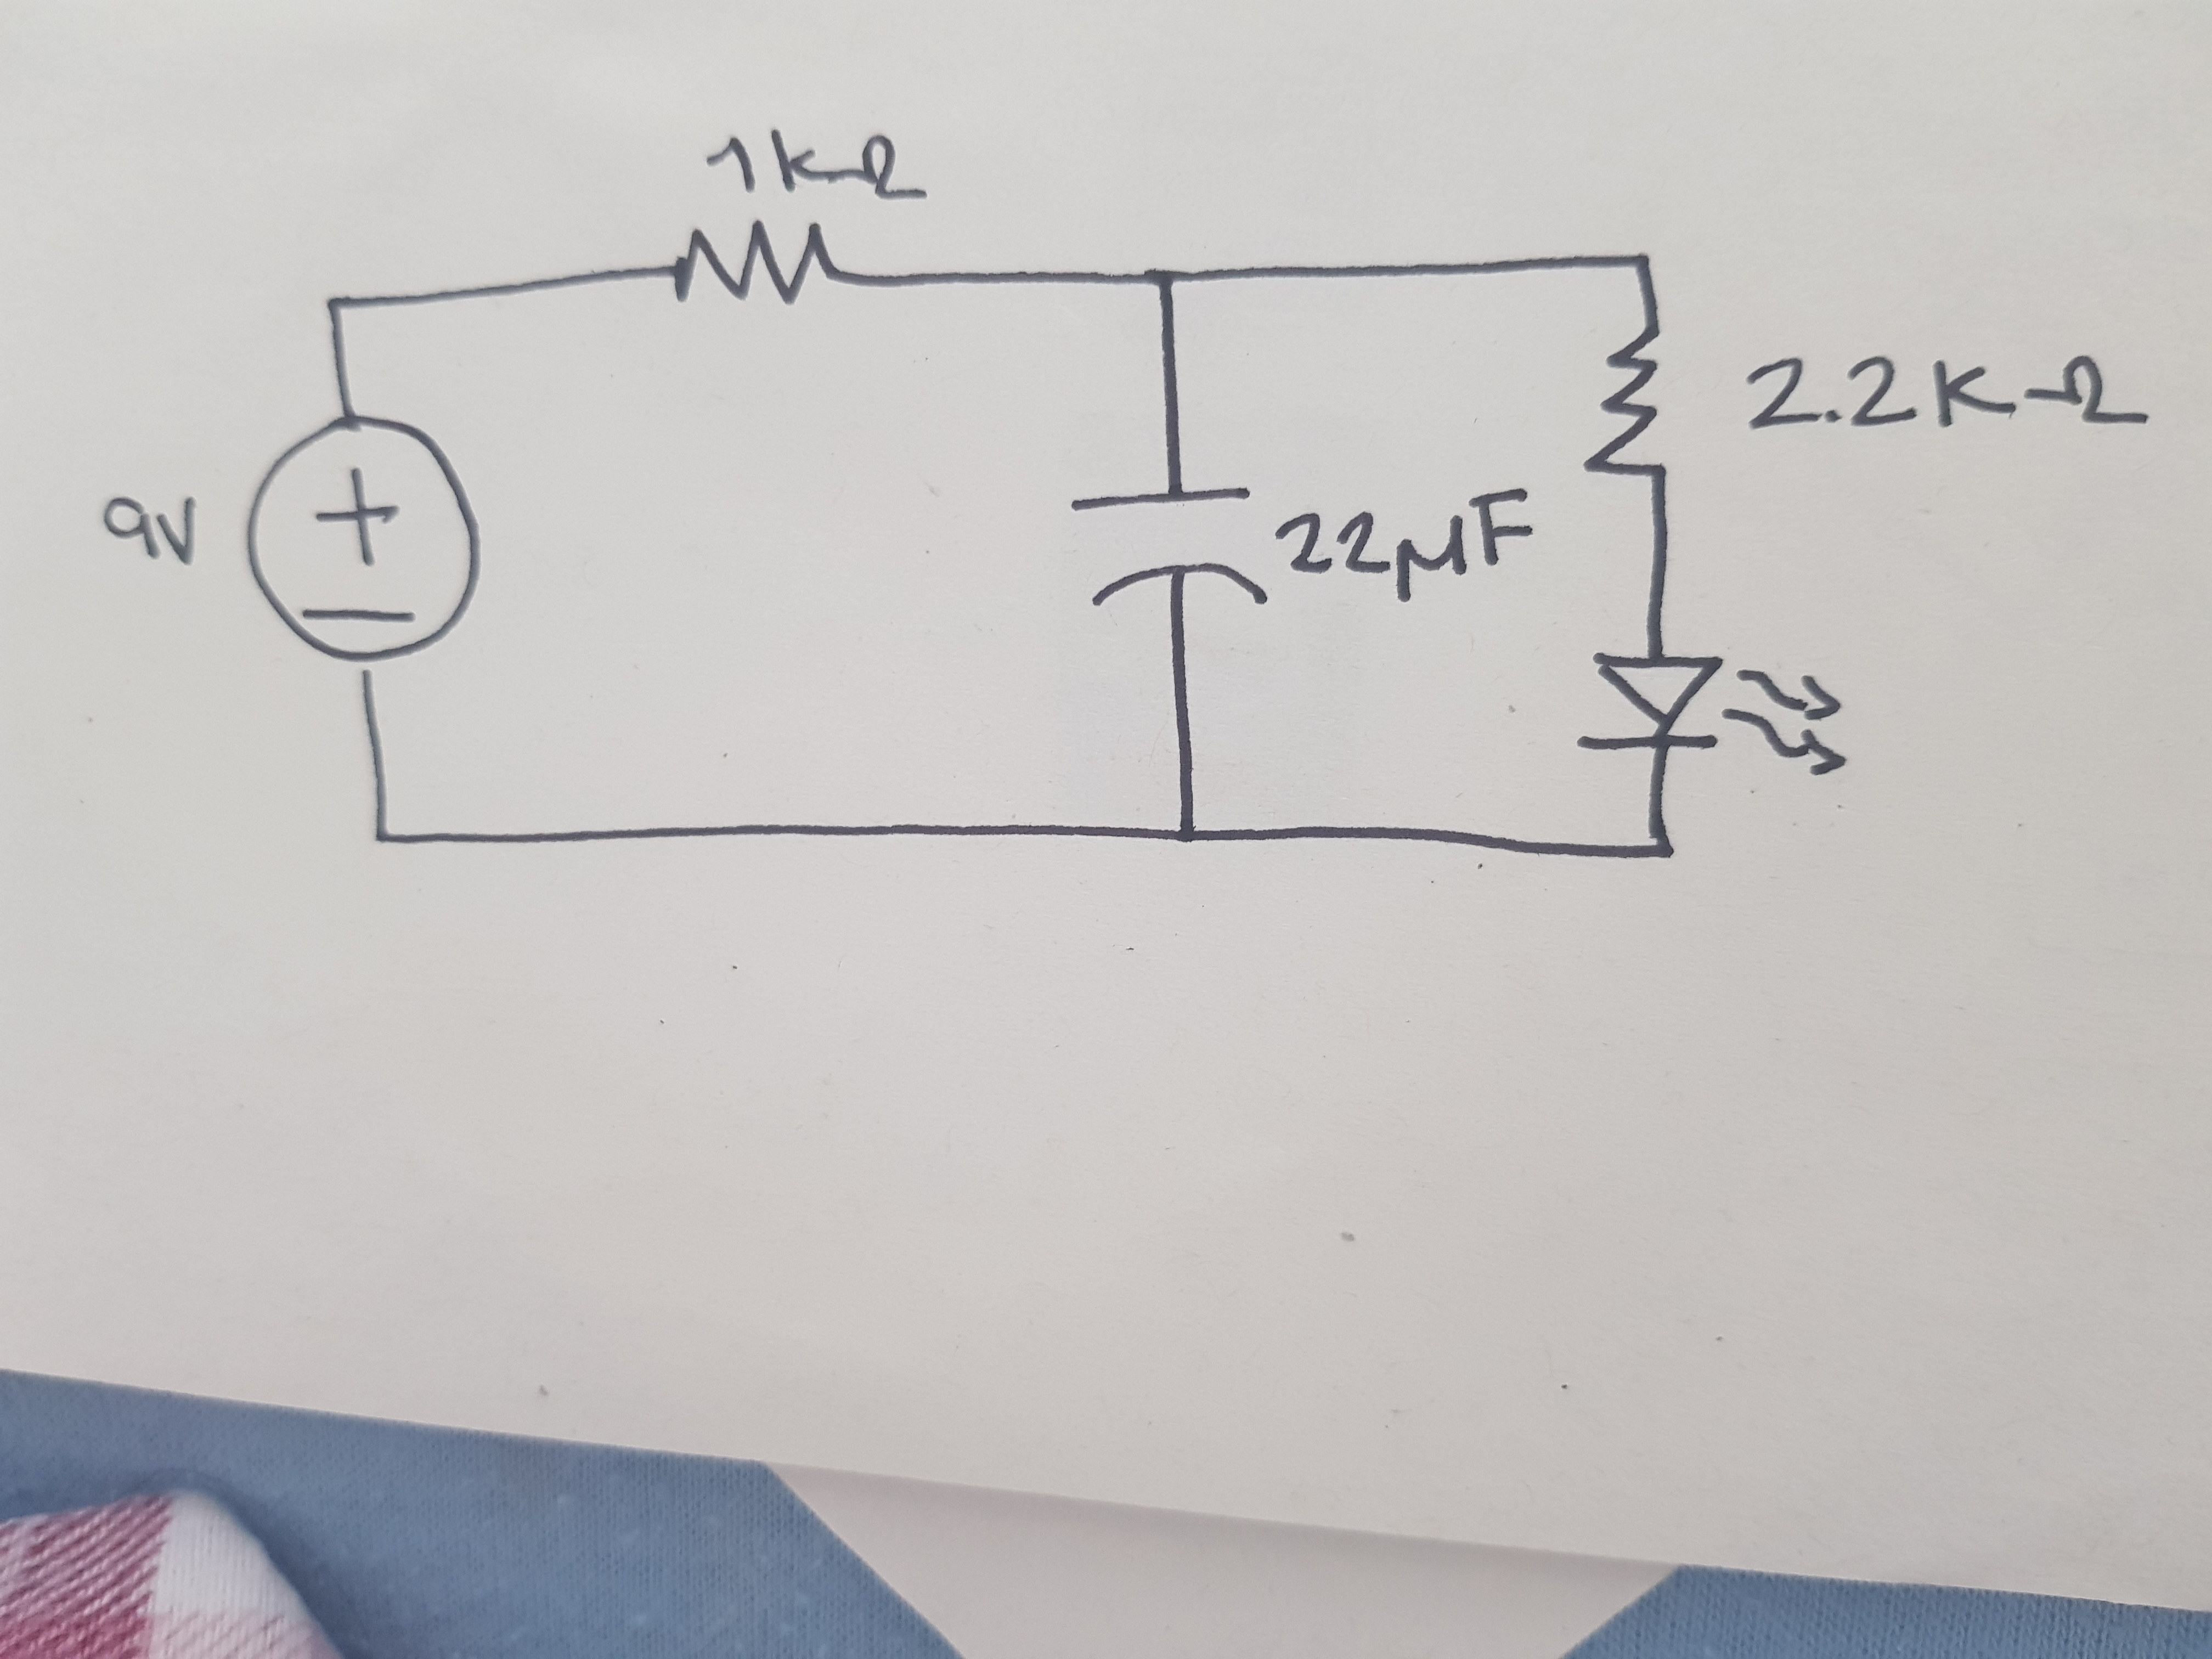capacitor.unpolarized: (1061, 469, 1284, 619)
diode.light_emitting: (1568, 652, 1857, 775)
junction: (1165, 814, 1216, 857), (314, 288, 359, 328), (1639, 830, 1684, 866), (1144, 261, 1184, 300), (1625, 247, 1667, 282), (364, 821, 399, 856)
resistor: (620, 211, 902, 335), (1580, 331, 1693, 479)
text: (1742, 350, 2156, 439), (1280, 481, 1533, 612), (693, 124, 935, 211), (94, 490, 211, 579)
voltage.dc: (230, 404, 512, 674)
